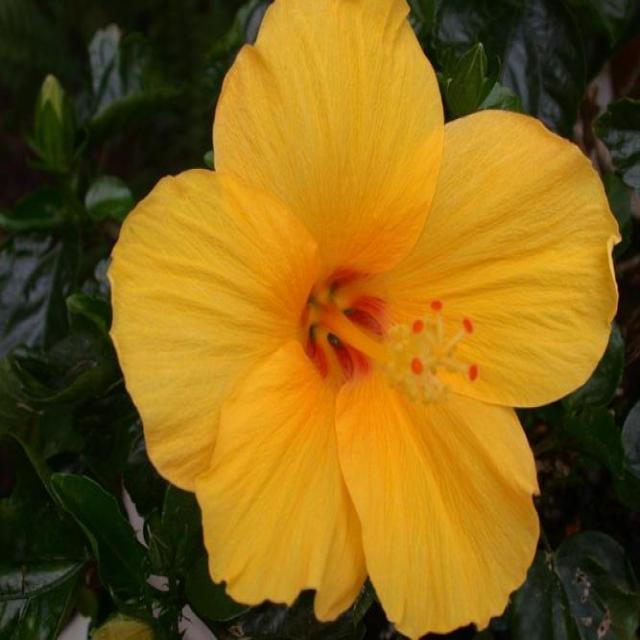hibiscus: (73, 0, 637, 639)
